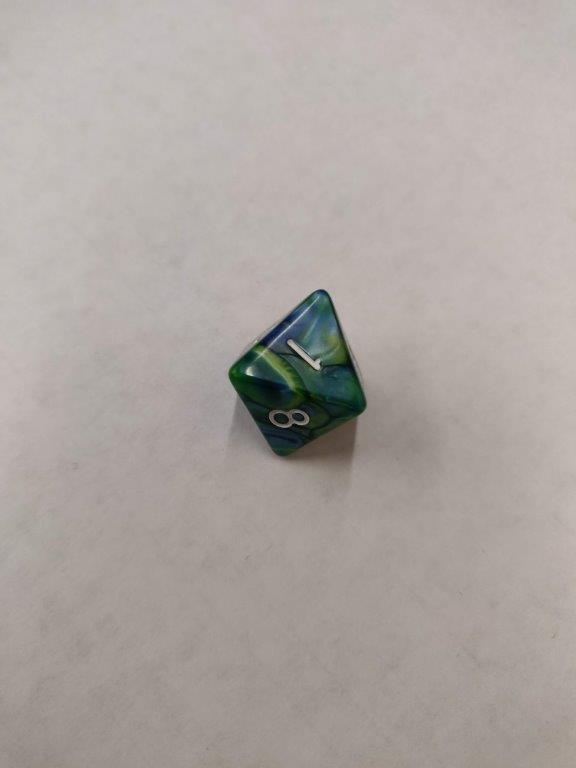d8-1: (227, 288, 365, 459)
